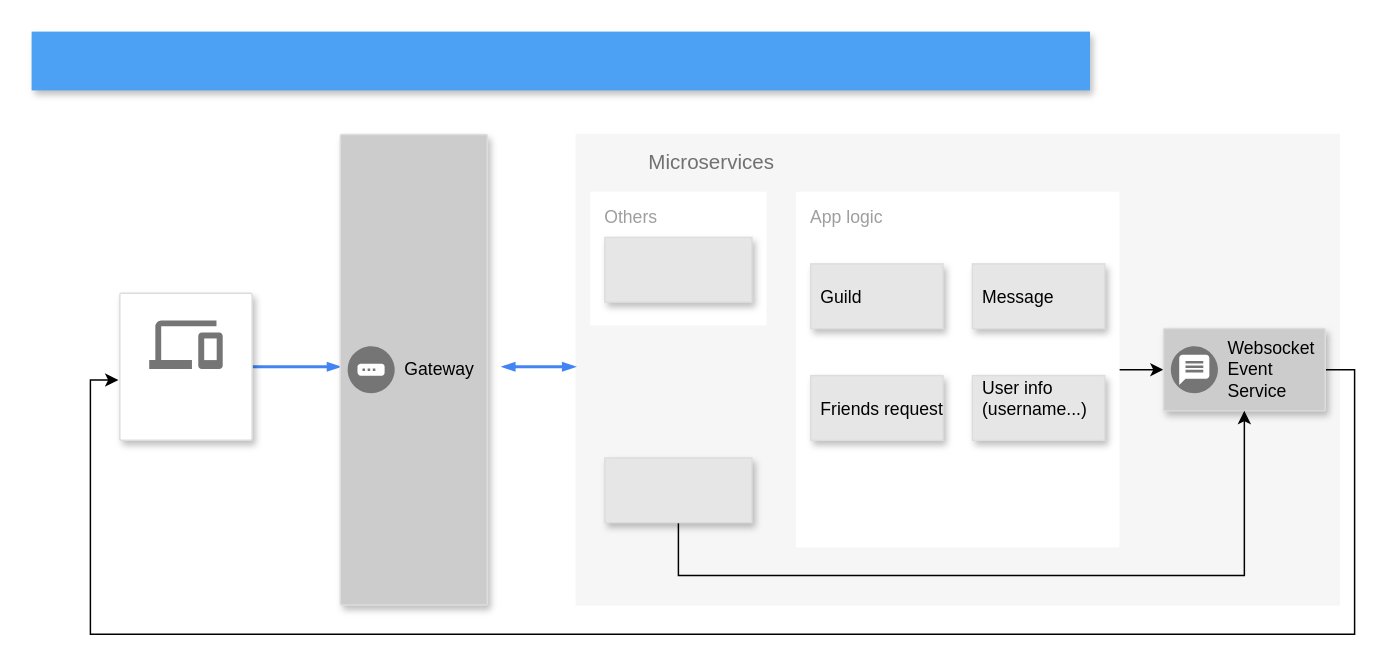
Image size: 1392x672. Some labels were removed from this diagram. The shapes that lost their labels are listed below. From the top down, each one's centre as x and y in pixels, then its label:
At [561,62]: "Architecture: Neptune microservices".
At [679,271]: "Blog".
At [186,368]: "Client (crossplatform)".
At [679,492]: "Auth".
